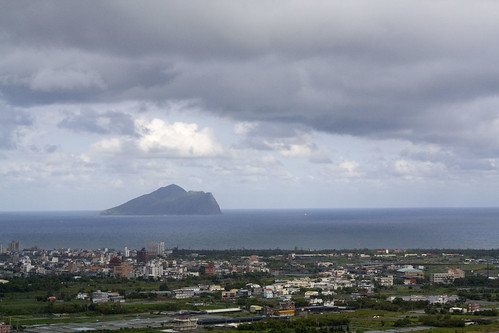turtleIsland: (100, 185, 222, 218)
